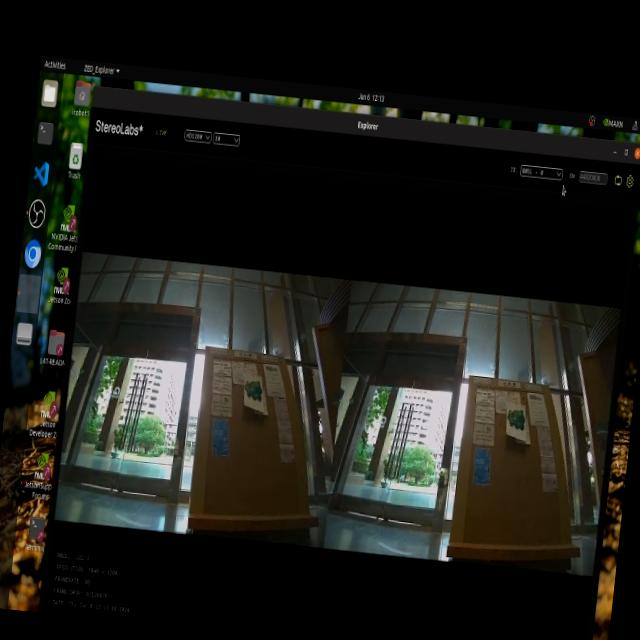green: (244, 371, 266, 402), (505, 400, 520, 432)
